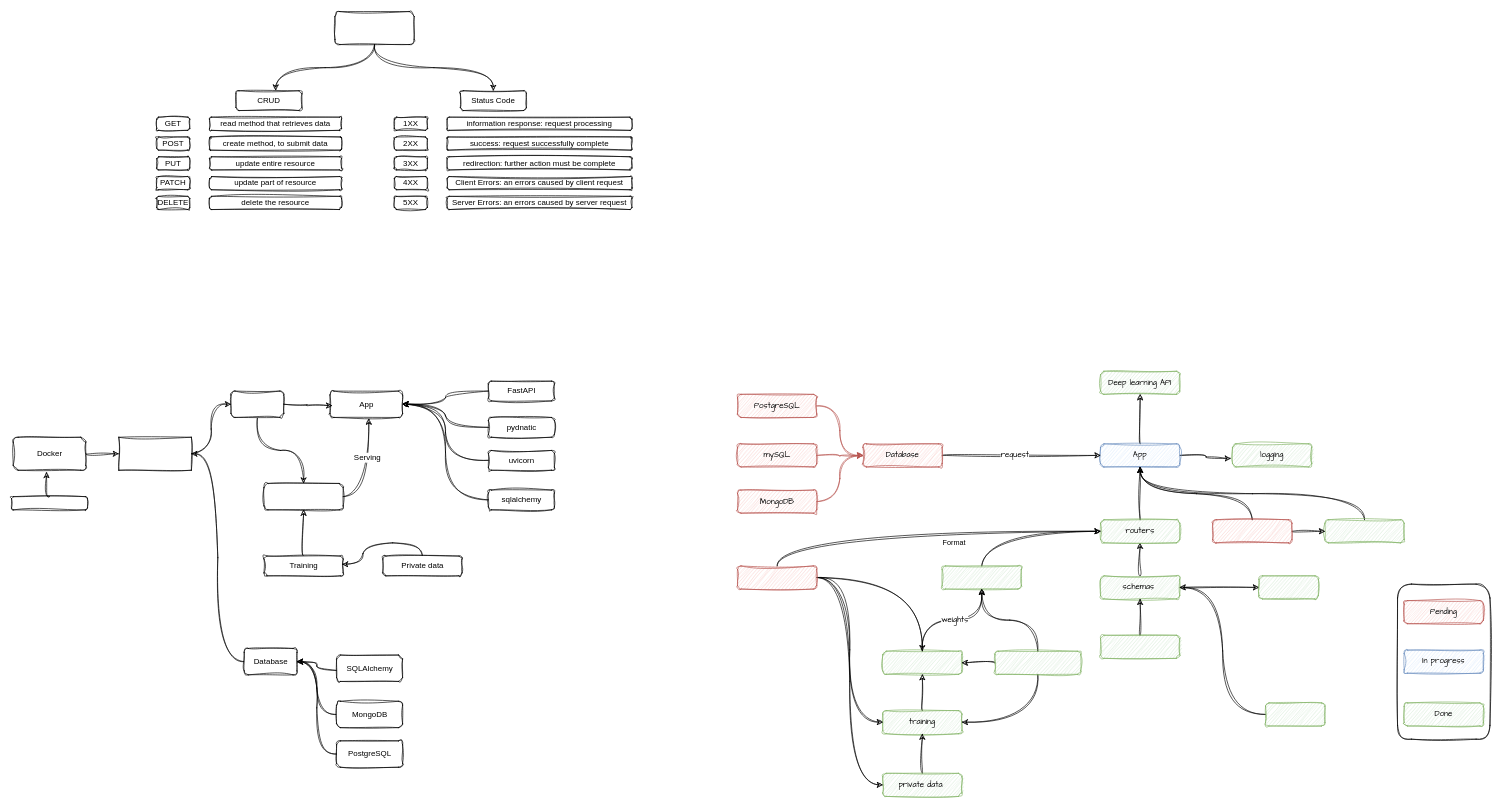
Some shapes in this 1502 by 809 pixel diagram are drawn without their labels. Each missing label, with the centre of its shape:
assets: the point at 1364,531
config: the point at 1037,662
Deep Learning Model: the point at 303,496
DeepLearning with FastAPI: the point at 154,453
Dockerfile: the point at 49,503
HTTP Infos: the point at 374,28
input schema: the point at 1295,714
middleware: the point at 1140,646
model predictor: the point at 981,577
models: the point at 922,662
output schema: the point at 1288,587
Python: the point at 257,403
requirement packages: the point at 1252,531
utils: the point at 777,577
